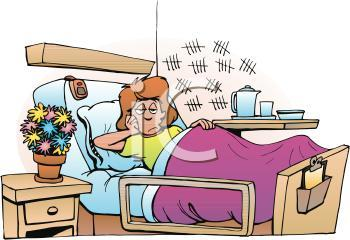person: (91, 71, 216, 173)
pottedplant: (17, 101, 75, 183)
